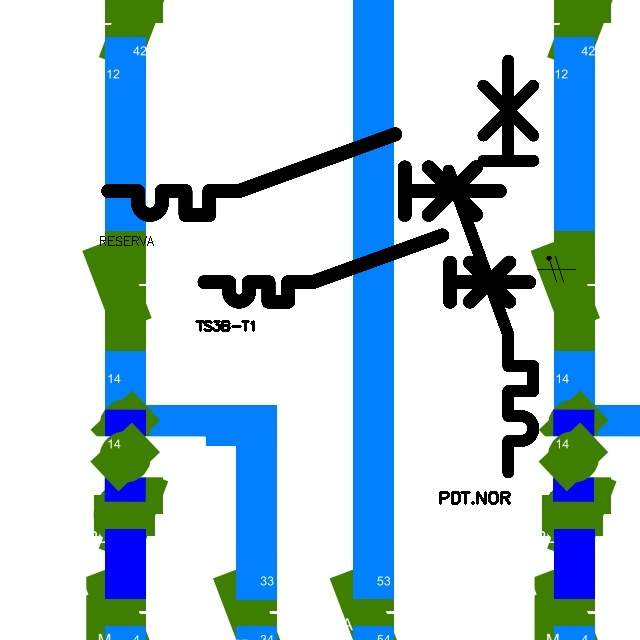interruptor_termomagnetico: (438, 50, 544, 483), (98, 124, 510, 225), (196, 227, 537, 310)
